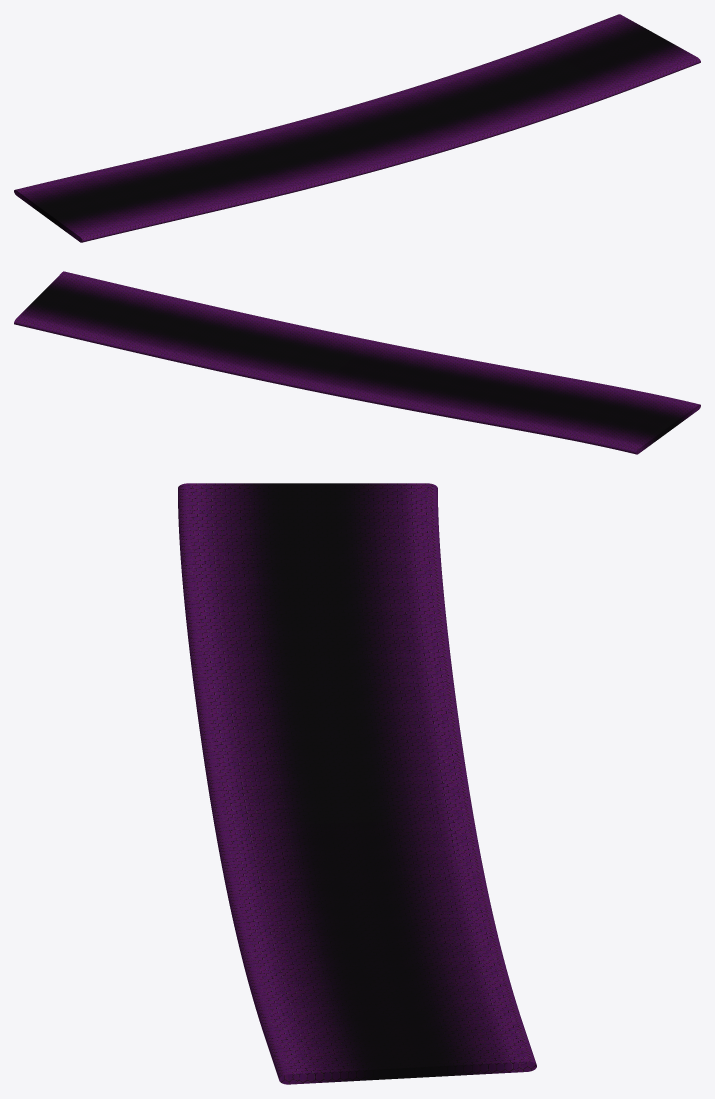
The model's file is level-02-track-02.glb.
3 renders of one model, top to bottom at view 1: azimuth 30°, elevation 25°; view 2: azimuth 150°, elevation 25°; view 3: azimuth 270°, elevation 25°, orthographic. The views are drawn at different scales.
Visible parts, largest first — view 1: track-02.001; view 2: track-02.001; view 3: track-02.001.
Part boxes in pixels (bbox=[...]): track-02.001: bbox=[14, 14, 700, 242]; track-02.001: bbox=[14, 271, 700, 454]; track-02.001: bbox=[178, 483, 536, 1084].
Size of the model in its own units: 50.44 by 1.2 by 12.84.
Materials: 2 (2 with a texture image).
